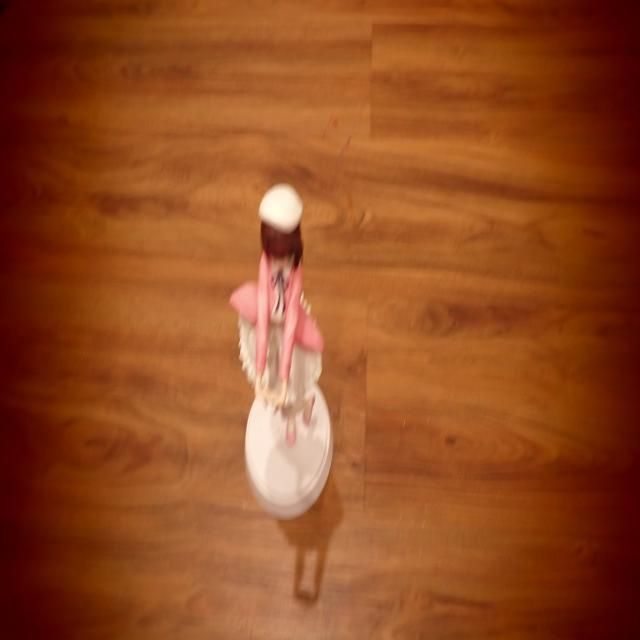My-pink-anime-figure: (231, 184, 323, 445)
